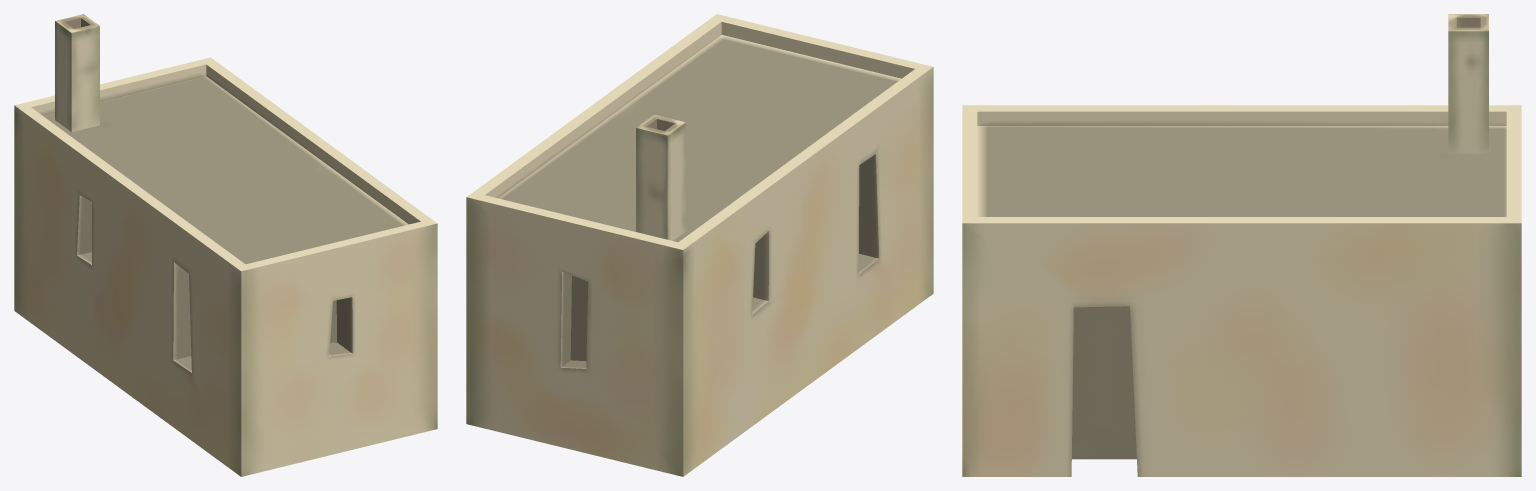
File: House2.fbx
3 renders of one model, left to right at view 1: azimuth 30°, elevation 25°; view 2: azimuth 150°, elevation 25°; view 3: azimuth 270°, elevation 25°, orthographic. The views are drawn at different scales.
Visible parts, largest first — view 1: House 2; view 2: House 2; view 3: House 2.
Part boxes in pixels (left/top/right/bottom): House 2: left=14, top=14, right=437, bottom=476; House 2: left=466, top=14, right=933, bottom=476; House 2: left=962, top=14, right=1521, bottom=476.
Size of the model in its own units: 200 by 285 by 400.
